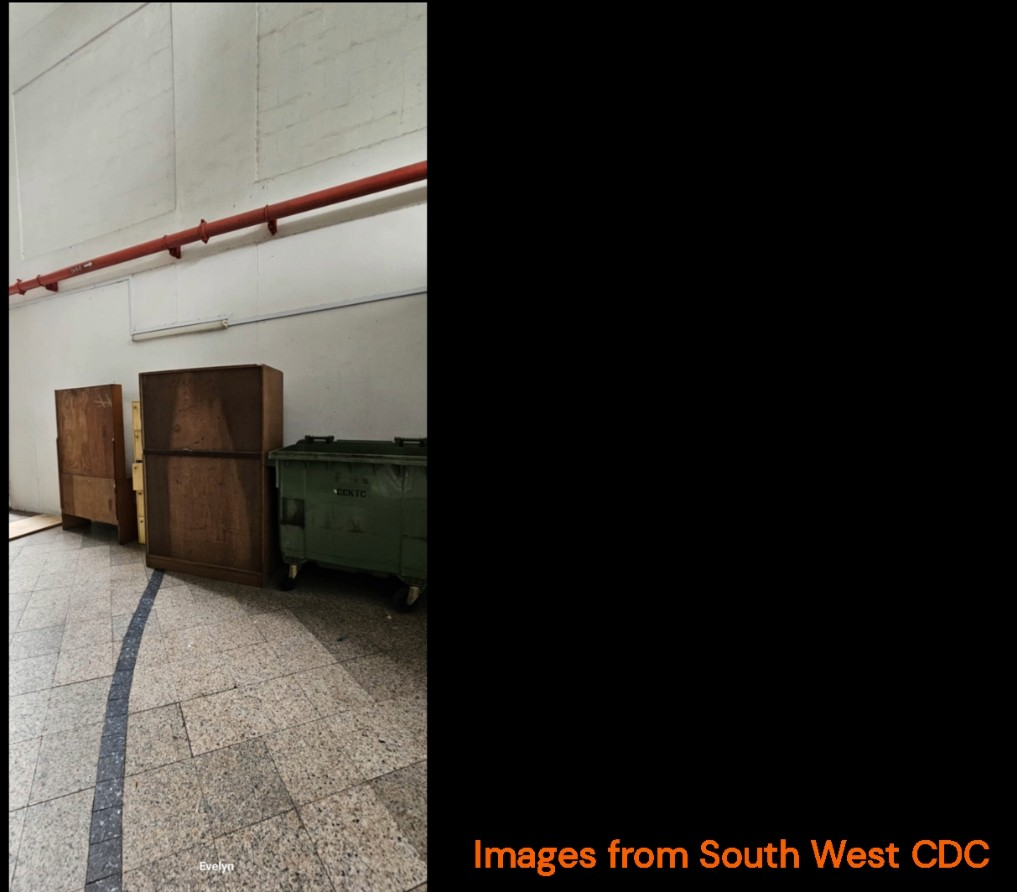bin_empty: (269, 435, 426, 608)
bulk_waste: (140, 365, 282, 585), (55, 385, 136, 543)
